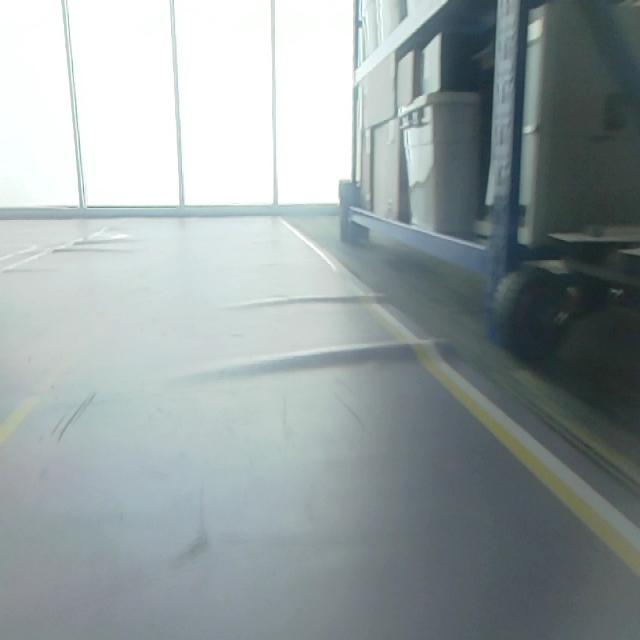left_lane: (0, 328, 95, 448)
right_lane: (284, 218, 640, 578)
